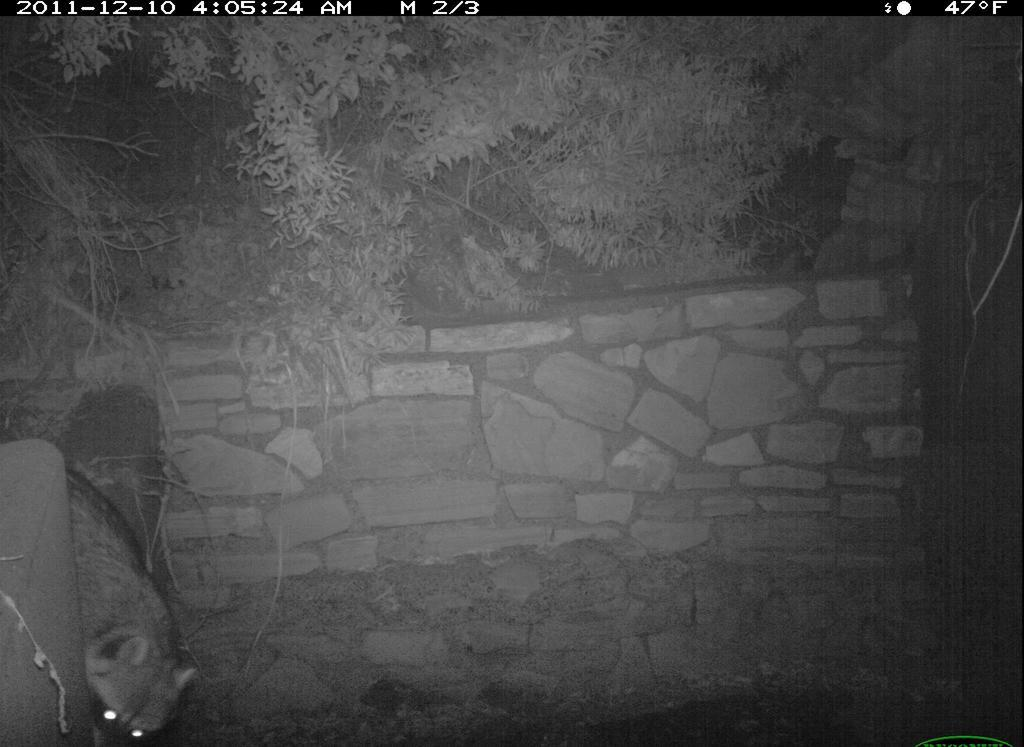raccoon: (66, 446, 213, 745)
